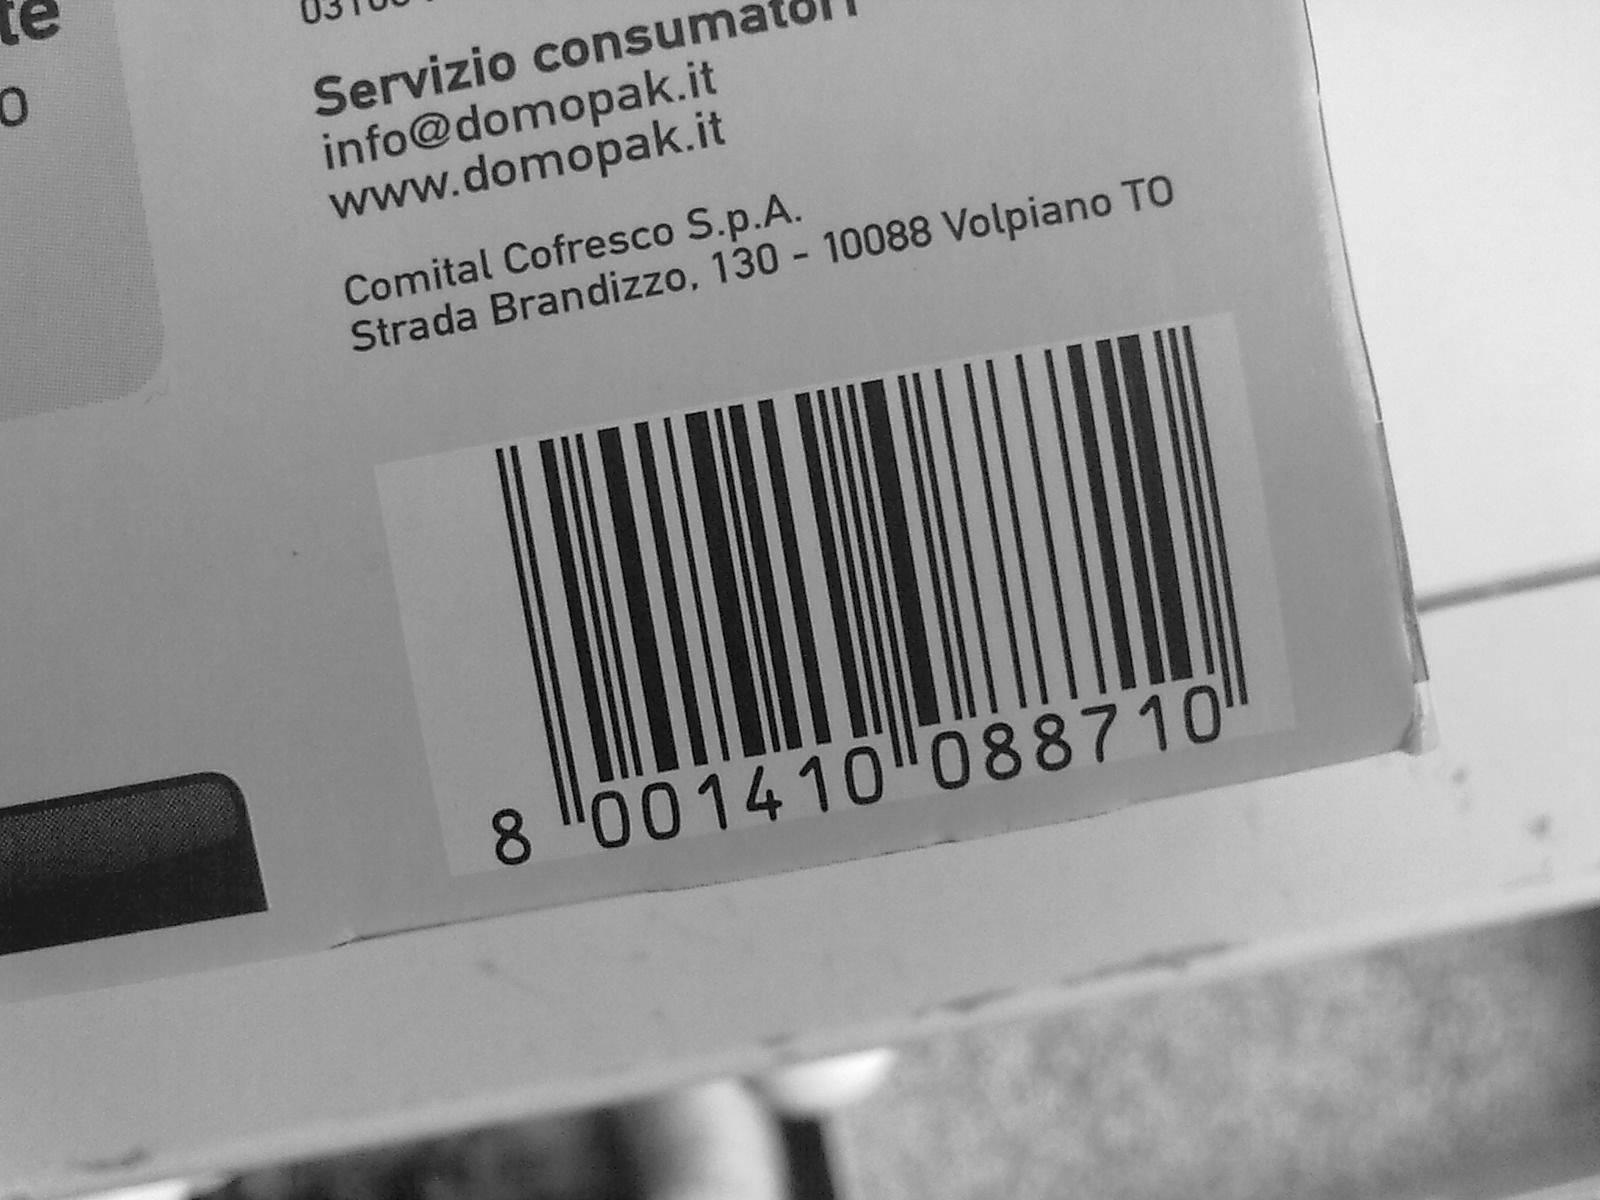Barcode: (517, 308, 1230, 798)
